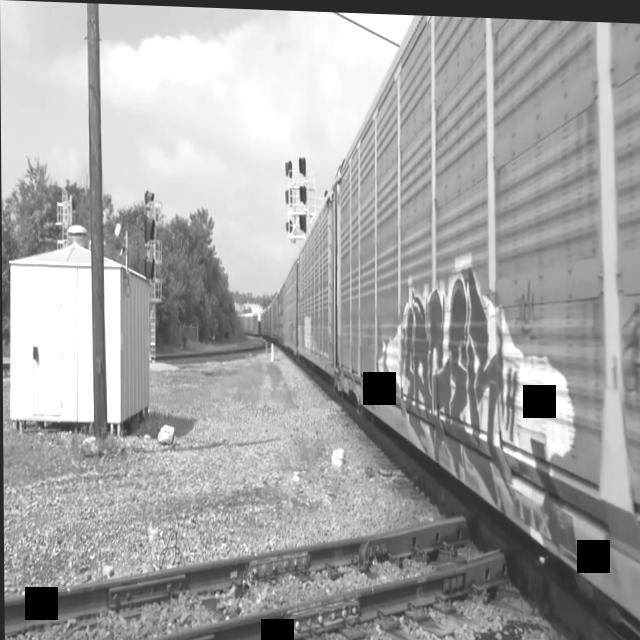autorack: (337, 10, 640, 640), (296, 172, 337, 388)
